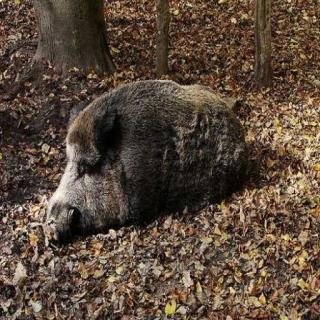Pig: (42, 66, 278, 238)
